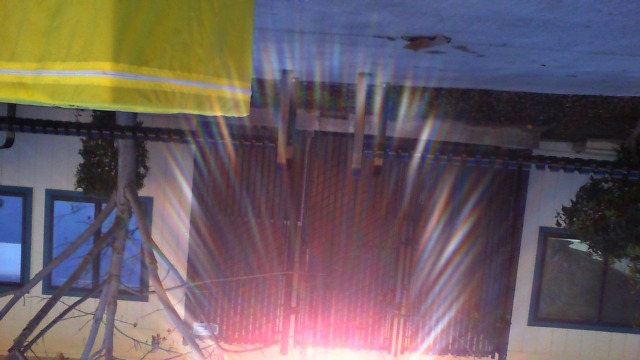cube: (1, 1, 253, 123)
